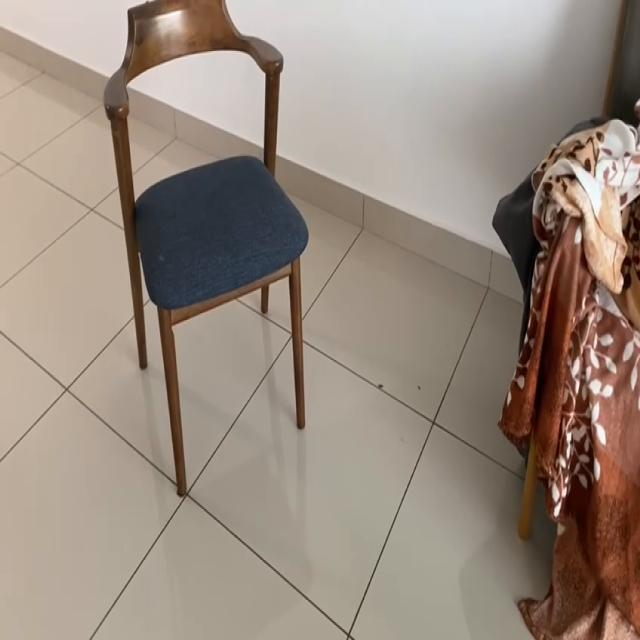Chair: (91, 5, 321, 501)
